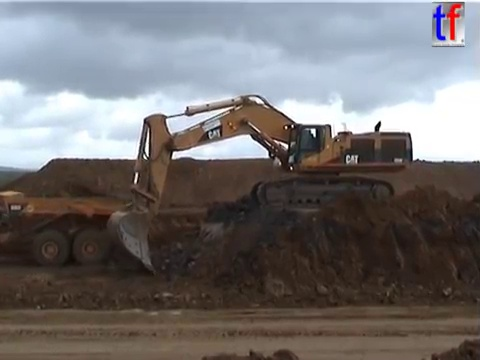excavator: (104, 91, 415, 277)
truck: (1, 188, 141, 269)
